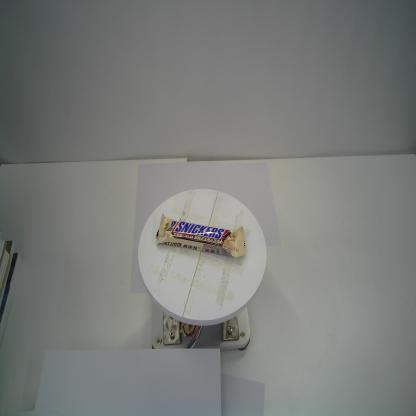Chocolate: (155, 213, 246, 258)
